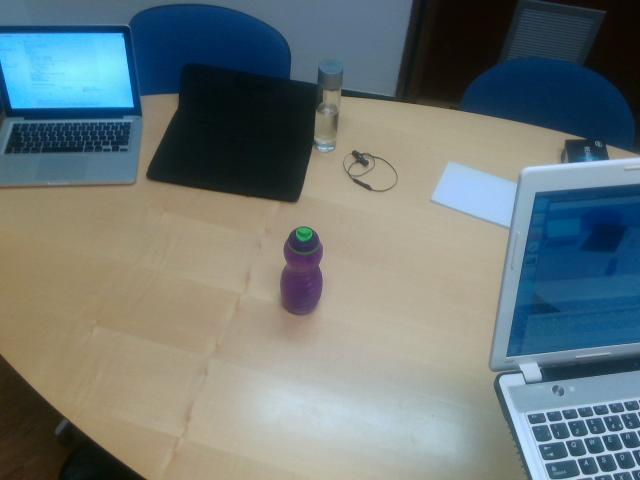bottle: (280, 228, 323, 315)
